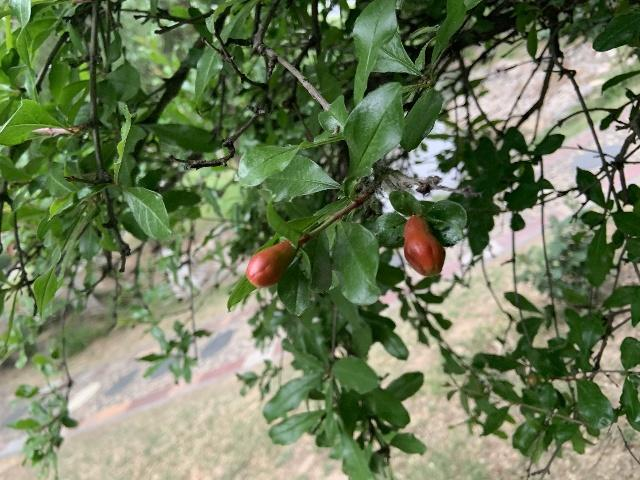bud: (403, 215, 444, 276), (246, 240, 295, 287)
